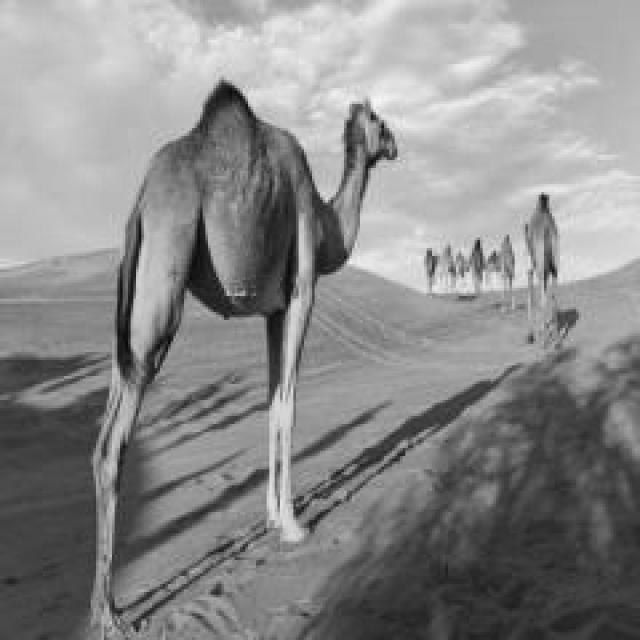Camel: (59, 75, 397, 637)
